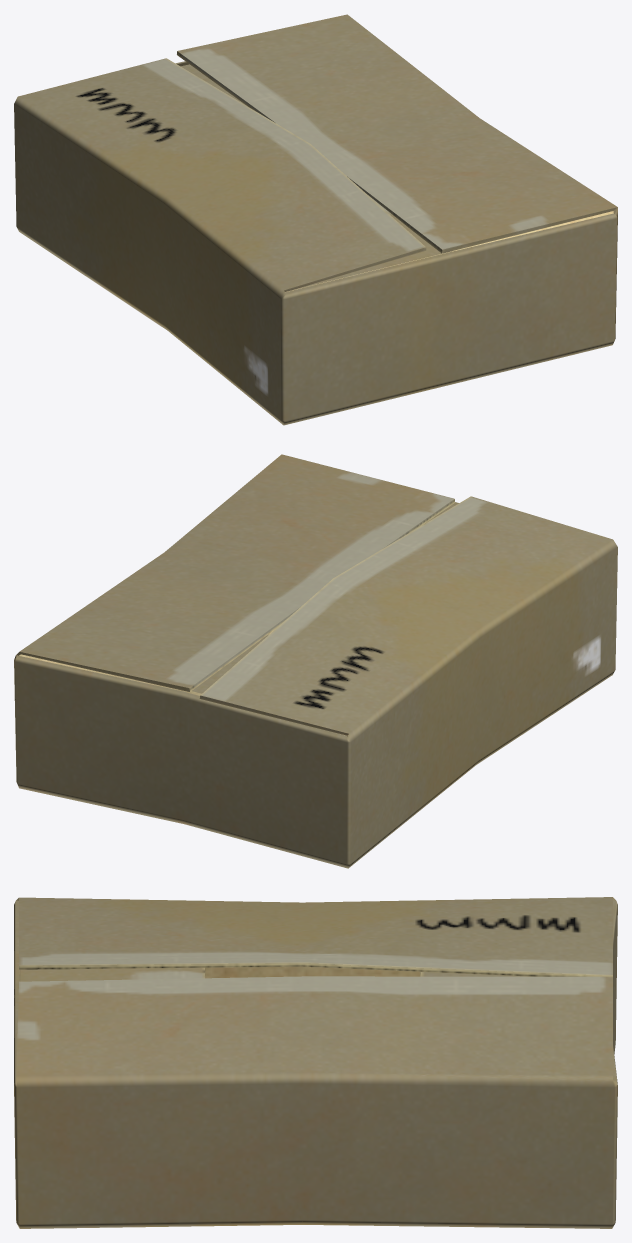
Rendered from SM_Boxes_01a.fbx.
The picture shows the model from 3 angles, top to bottom: view 1: azimuth 30°, elevation 25°; view 2: azimuth 150°, elevation 25°; view 3: azimuth 270°, elevation 25°; orthographic projection. The views are drawn at different scales.
Parts seen in each view (by area): view 1: SM_Boxes_01a_LOD0; view 2: SM_Boxes_01a_LOD0; view 3: SM_Boxes_01a_LOD0.
Part boxes in pixels (x1,y1,x2,y2): SM_Boxes_01a_LOD0: (14,14,617,425); SM_Boxes_01a_LOD0: (14,454,617,868); SM_Boxes_01a_LOD0: (14,897,617,1228).
Size of the model in its own units: 41.57 by 57.57 by 17.86.
1 material, 1 textured.
